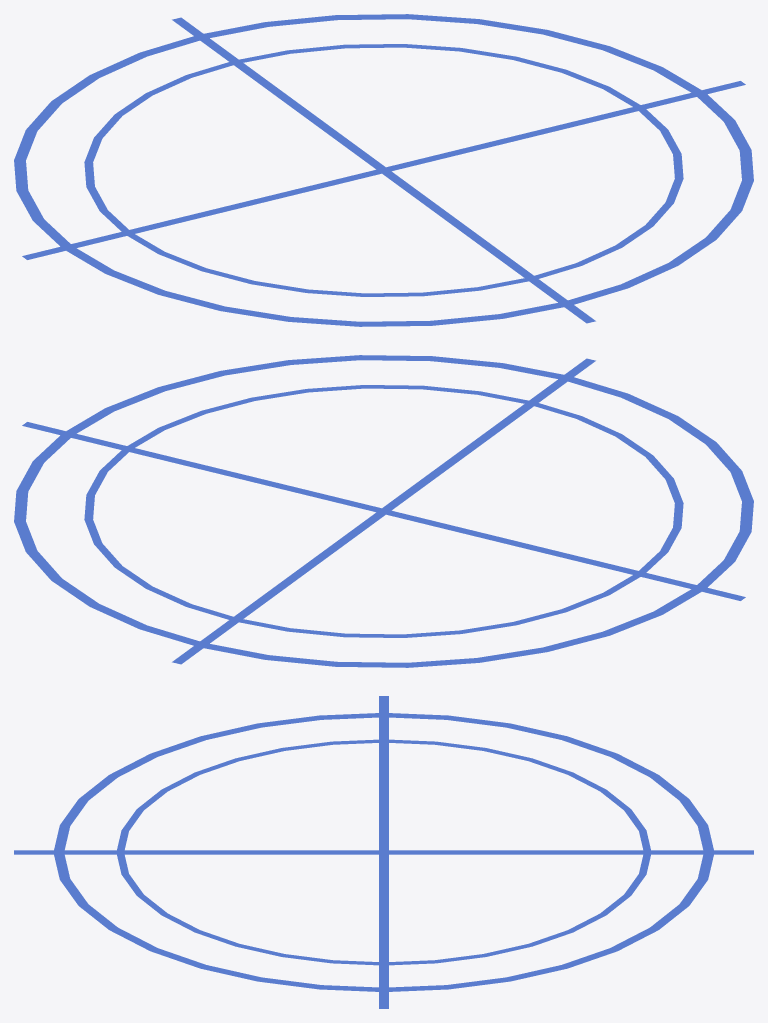
Rendered from Mark.fbx.
3 renders of one model, top to bottom at view 1: azimuth 30°, elevation 25°; view 2: azimuth 150°, elevation 25°; view 3: azimuth 270°, elevation 25°, orthographic. The views are drawn at different scales.
Visible parts, largest first — view 1: 平面; view 2: 平面; view 3: 平面.
Boxes of the visible parts, x1,y1,x2,y2 form: 平面: (14, 14, 753, 326); 平面: (14, 355, 753, 667); 平面: (14, 696, 753, 1008).
Size of the model in its own units: 231 by 0 by 231.
